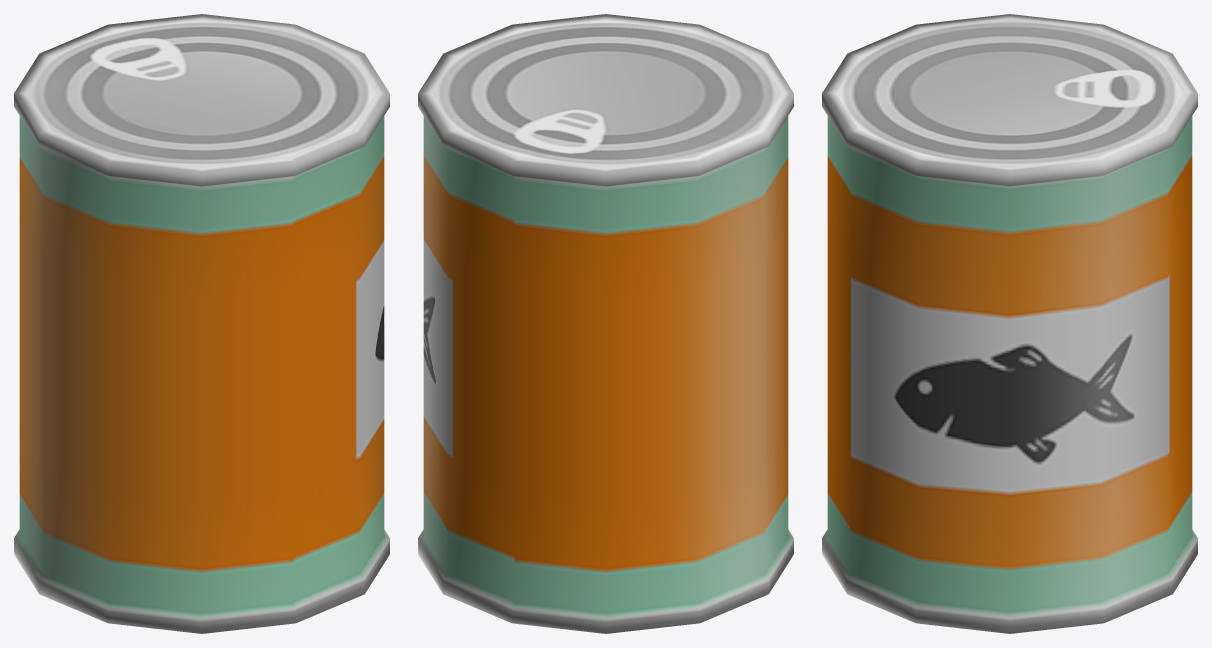
Rendered from can.fbx.
3 renders of one model, left to right at view 1: azimuth 30°, elevation 25°; view 2: azimuth 150°, elevation 25°; view 3: azimuth 270°, elevation 25°, orthographic.
Visible parts, largest first — view 1: _01_can; view 2: _01_can; view 3: _01_can.
Boxes of the visible parts, x1=… form: _01_can: x1=14, y1=14, x2=389, y2=633; _01_can: x1=418, y1=14, x2=793, y2=633; _01_can: x1=822, y1=14, x2=1197, y2=633.
Bounding box in the file's own units: 1.36 × 1.84 × 1.36.
